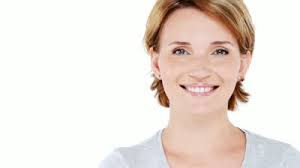white_female: (140, 17, 247, 113)
